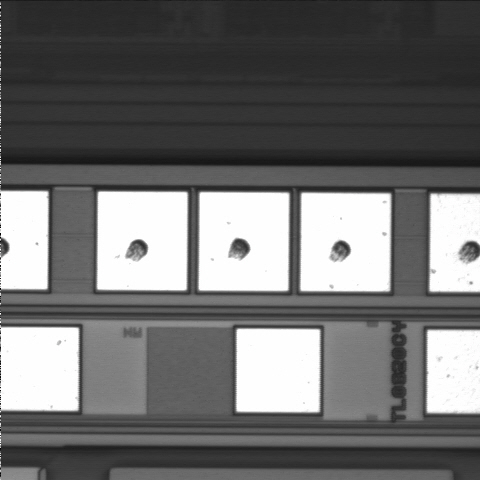pad: (300, 193, 391, 291), (199, 192, 289, 291), (97, 192, 187, 290), (236, 329, 320, 412)
